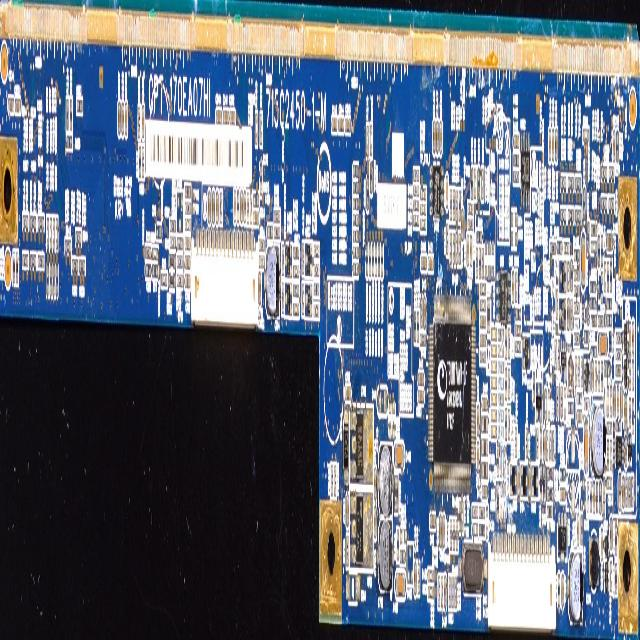Capacitor Jumper: (394, 446, 404, 468), (582, 236, 586, 286), (378, 391, 387, 413), (396, 574, 405, 596), (584, 426, 588, 475), (599, 334, 607, 354), (566, 297, 570, 331), (576, 513, 580, 547), (590, 360, 594, 393), (606, 236, 613, 252), (481, 397, 488, 413), (445, 174, 448, 210), (345, 383, 351, 401), (616, 384, 619, 420), (332, 115, 338, 132), (439, 121, 442, 155), (371, 242, 374, 276), (380, 243, 383, 277), (258, 271, 261, 305), (606, 385, 609, 419), (477, 167, 480, 200), (243, 190, 246, 223), (461, 209, 464, 242), (377, 243, 380, 276), (624, 397, 627, 430), (346, 496, 349, 529), (442, 514, 445, 547), (352, 228, 359, 242), (513, 134, 519, 150), (259, 161, 262, 193), (233, 190, 236, 222), (466, 234, 469, 266), (628, 322, 631, 354), (539, 431, 542, 463), (561, 576, 564, 608), (631, 322, 634, 353), (547, 391, 550, 422), (517, 467, 520, 498), (352, 198, 359, 211), (576, 409, 583, 422), (338, 117, 344, 132), (548, 130, 551, 160), (612, 131, 615, 161), (480, 333, 486, 348), (8, 98, 14, 113), (14, 100, 20, 115), (121, 104, 124, 133), (352, 214, 359, 226), (184, 256, 190, 270), (352, 262, 359, 274), (152, 265, 158, 279), (480, 315, 486, 329), (472, 521, 478, 535), (400, 550, 406, 564), (229, 110, 235, 124), (253, 192, 258, 208), (428, 255, 433, 271), (344, 119, 350, 132), (352, 165, 358, 178), (252, 212, 258, 225), (184, 237, 190, 250), (482, 485, 488, 498), (417, 391, 424, 402), (216, 110, 221, 125), (528, 464, 530, 501), (352, 182, 358, 194), (352, 247, 358, 259), (145, 263, 151, 275), (184, 276, 190, 288), (606, 478, 612, 490), (560, 490, 566, 502), (505, 327, 507, 362), (491, 344, 496, 358), (418, 372, 423, 386), (430, 516, 435, 530), (505, 368, 507, 402), (505, 408, 507, 442), (444, 574, 446, 608), (118, 102, 120, 136), (142, 105, 144, 138), (433, 121, 435, 154), (616, 130, 618, 163), (208, 192, 210, 225), (375, 243, 377, 276), (366, 244, 368, 277), (564, 388, 566, 421), (477, 442, 479, 475), (622, 476, 624, 509), (374, 507, 376, 540), (156, 226, 161, 239), (491, 393, 496, 406), (491, 425, 496, 438), (223, 110, 228, 123), (436, 122, 438, 154), (583, 188, 585, 220), (212, 192, 214, 224), (216, 193, 218, 225), (470, 236, 472, 268), (369, 244, 371, 276), (620, 387, 622, 419), (374, 469, 376, 501), (414, 562, 416, 594), (125, 103, 127, 135), (472, 169, 474, 200), (366, 180, 368, 211), (512, 271, 514, 302), (613, 386, 615, 417), (544, 388, 546, 419), (486, 507, 488, 538), (610, 520, 612, 551), (552, 130, 554, 160), (555, 130, 557, 160), (240, 192, 242, 222), (421, 258, 426, 270), (491, 329, 496, 341), (491, 360, 496, 372), (491, 378, 496, 390), (477, 406, 479, 436), (593, 482, 595, 512), (439, 516, 441, 546), (600, 529, 602, 559), (558, 576, 560, 606), (424, 299, 426, 328), (543, 431, 545, 460), (625, 438, 627, 466), (491, 410, 496, 420)
Connector: (488, 531, 556, 640), (192, 226, 258, 334)
IC: (428, 302, 476, 488), (350, 488, 373, 566), (351, 409, 373, 488), (429, 162, 444, 219), (496, 268, 509, 327), (521, 130, 529, 212), (558, 510, 566, 564)
Resistor Jumper: (71, 255, 78, 272), (79, 258, 85, 276), (556, 386, 559, 421), (560, 387, 563, 422), (427, 585, 434, 600), (292, 264, 298, 281), (417, 563, 420, 596), (141, 146, 144, 178), (138, 146, 141, 178), (455, 190, 458, 222), (65, 237, 71, 253), (458, 234, 461, 266), (478, 246, 481, 278), (176, 272, 182, 288), (449, 520, 452, 552), (451, 576, 454, 608), (396, 530, 399, 561), (169, 236, 176, 249), (583, 127, 589, 142), (608, 166, 614, 181), (560, 176, 566, 191), (76, 228, 82, 243), (258, 237, 264, 252), (176, 254, 182, 269), (475, 248, 478, 278), (515, 272, 518, 302), (455, 520, 458, 550), (448, 576, 451, 606), (76, 98, 82, 113), (449, 233, 452, 262), (513, 154, 519, 168), (601, 166, 607, 180), (413, 168, 419, 182), (413, 184, 419, 198), (313, 265, 319, 279), (161, 272, 167, 286), (313, 282, 319, 296), (513, 170, 519, 183), (575, 177, 581, 190), (608, 197, 614, 210), (601, 198, 607, 211), (413, 199, 419, 212), (420, 203, 426, 216), (274, 210, 280, 223), (574, 209, 580, 222), (590, 224, 596, 237), (145, 247, 151, 260), (293, 247, 299, 260), (258, 255, 264, 268), (293, 283, 299, 296), (293, 302, 299, 315), (314, 304, 320, 317), (574, 332, 580, 345), (515, 340, 521, 353), (479, 523, 485, 536), (420, 189, 426, 201), (560, 210, 566, 222), (420, 219, 426, 231), (476, 230, 482, 242), (590, 241, 596, 253), (152, 248, 158, 260), (597, 315, 603, 327), (568, 177, 573, 191), (568, 208, 573, 222), (170, 220, 175, 234), (479, 506, 484, 520), (260, 112, 262, 145), (467, 204, 473, 215), (413, 215, 419, 226), (274, 227, 280, 238), (456, 232, 458, 265), (452, 233, 454, 266), (515, 309, 521, 320), (417, 309, 419, 342), (515, 326, 521, 337), (508, 369, 510, 402), (472, 507, 478, 518), (454, 578, 456, 611), (177, 237, 182, 250), (420, 334, 425, 347), (255, 114, 257, 146), (370, 125, 372, 157), (481, 168, 483, 200), (446, 223, 448, 255), (302, 242, 304, 274), (482, 248, 484, 280), (508, 409, 510, 441), (452, 520, 454, 552), (610, 560, 612, 592), (66, 100, 68, 132), (70, 100, 72, 132), (450, 189, 452, 220), (420, 297, 422, 328), (532, 372, 534, 403), (346, 537, 348, 568), (138, 108, 140, 138), (474, 168, 476, 198), (414, 311, 416, 341), (508, 328, 510, 358), (428, 569, 433, 581), (302, 285, 304, 314), (366, 125, 368, 153), (452, 190, 454, 218), (314, 247, 319, 258), (468, 219, 473, 229)
Transistor: (284, 242, 292, 279), (558, 258, 566, 295), (284, 280, 292, 315), (304, 282, 312, 317), (559, 298, 567, 332), (522, 333, 530, 367), (305, 242, 312, 280), (536, 380, 542, 421), (520, 468, 528, 497), (510, 464, 517, 495), (531, 460, 537, 496)
